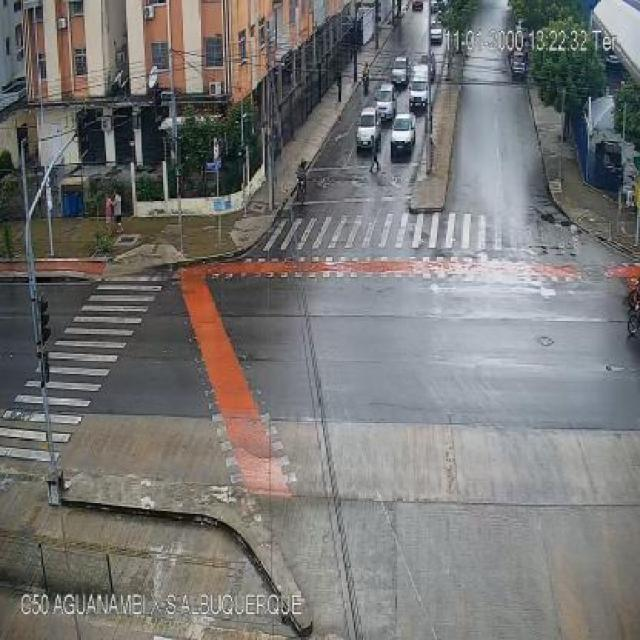Car: (356, 105, 382, 153), (390, 113, 417, 157), (1, 78, 27, 113), (374, 85, 396, 121), (390, 57, 410, 87), (509, 50, 529, 80), (419, 50, 435, 82), (429, 19, 445, 43), (605, 51, 621, 68), (412, 1, 423, 11)
Cycle: (361, 71, 371, 94)
Van: (407, 63, 431, 110)
